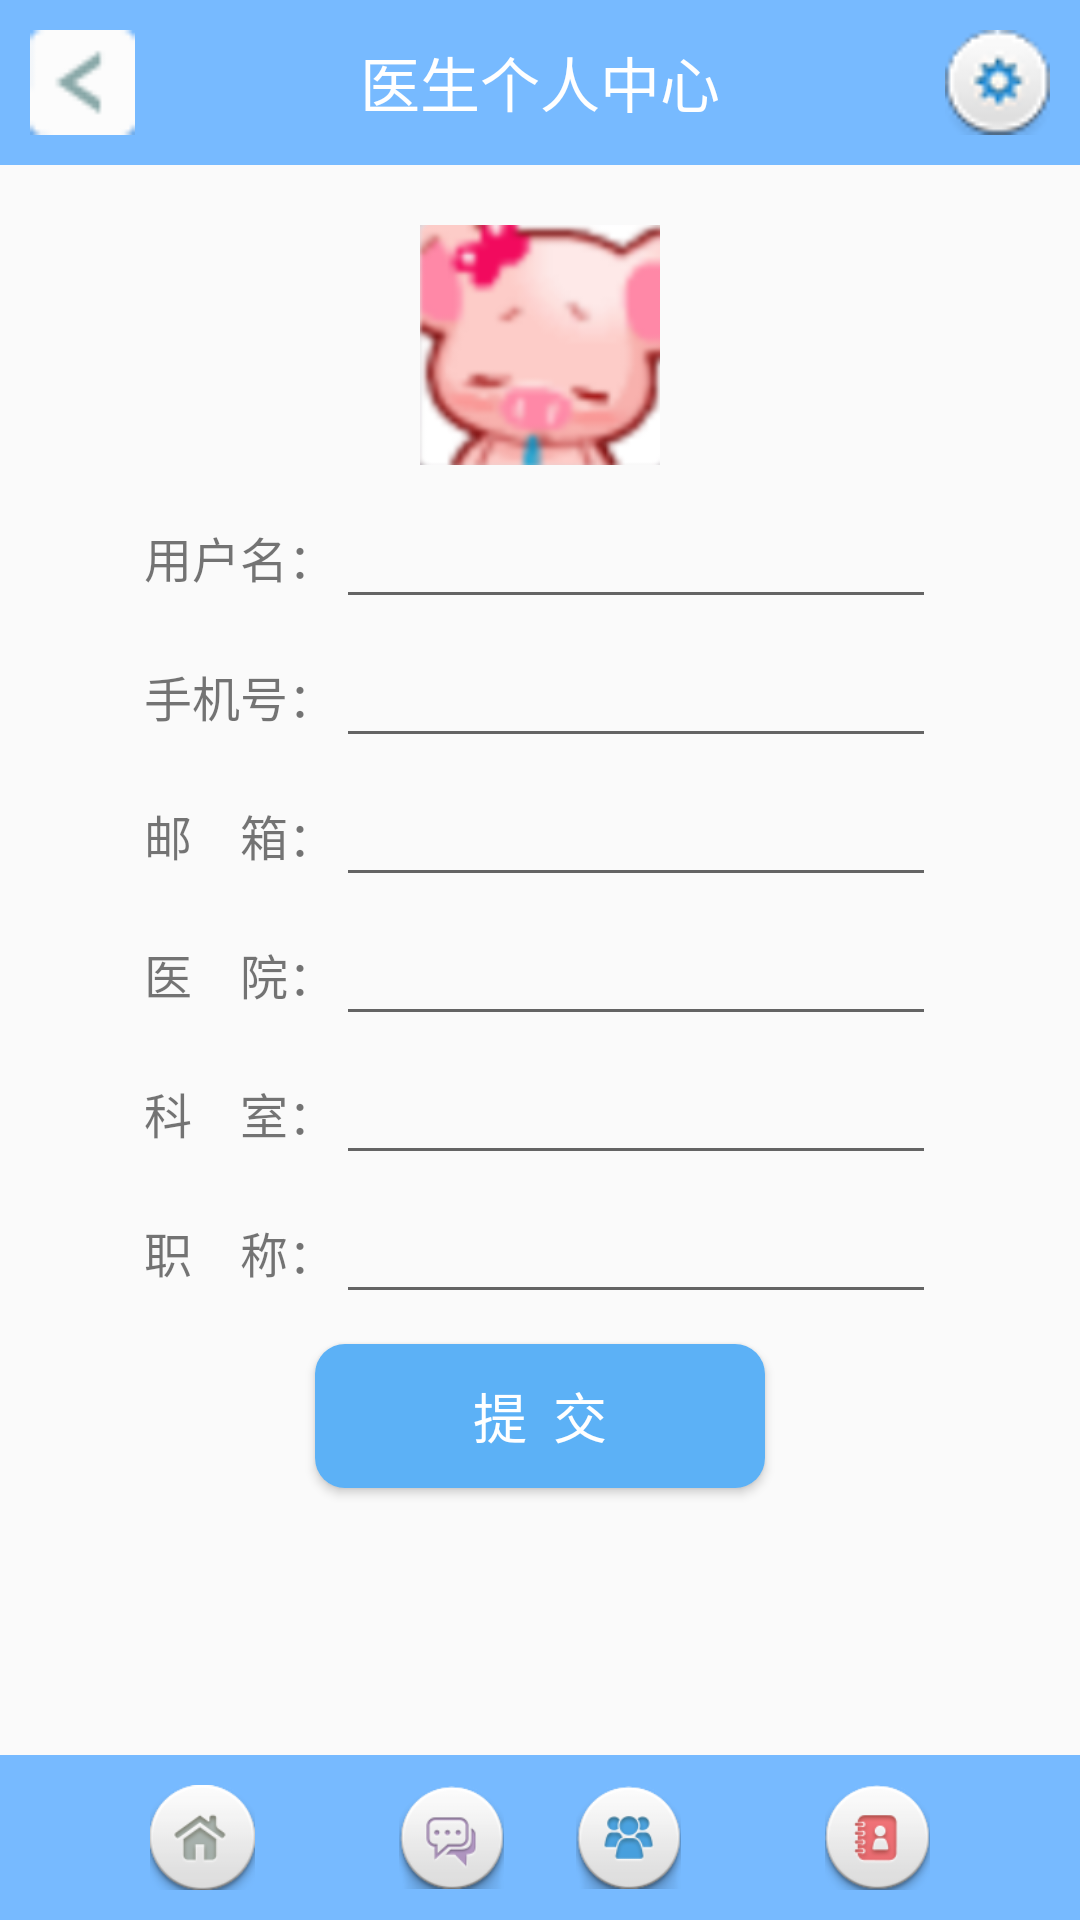

Screen size 1080*1920. Icon name, then its center in pixels as point (x, y):
home: point (202, 1837)
huihua: point (451, 1837)
left: point (82, 82)
setting: point (997, 82)
